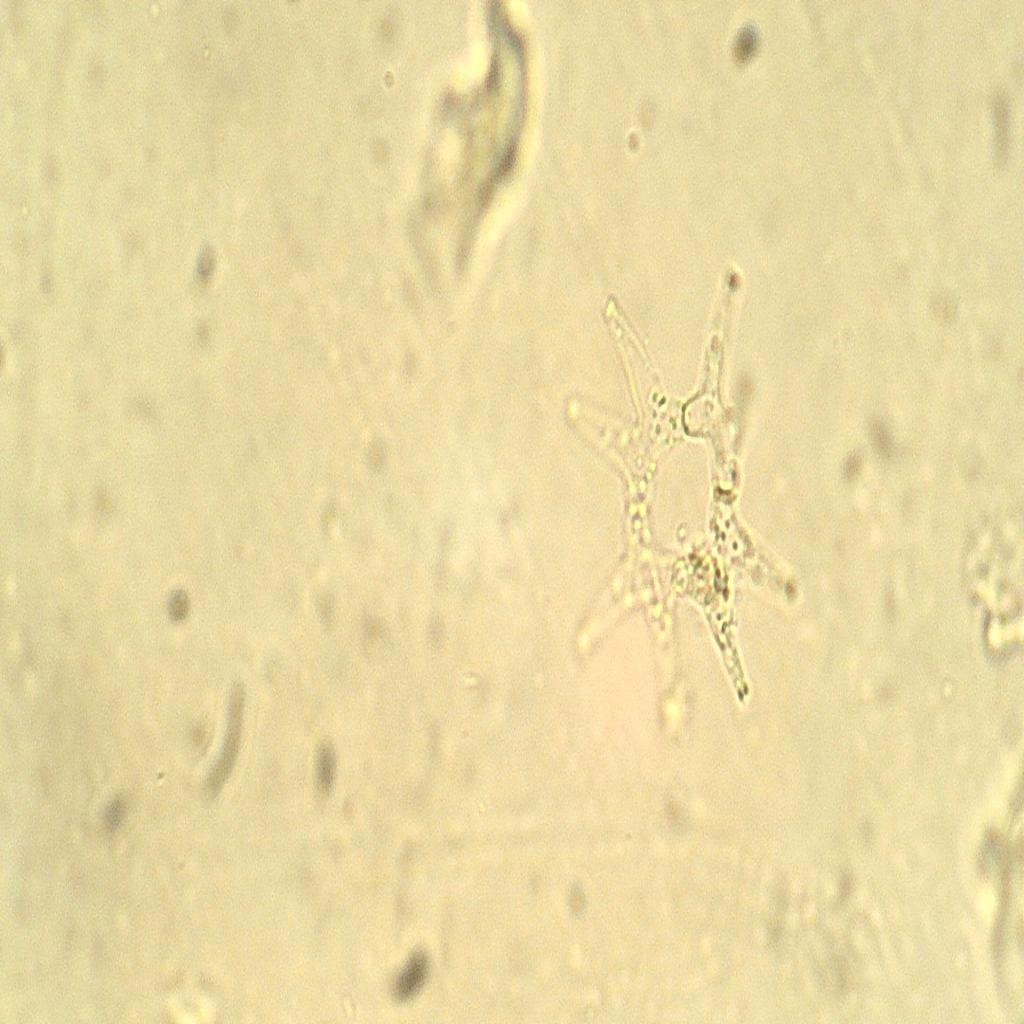Pediastrum_75TH: (546, 239, 817, 784)
